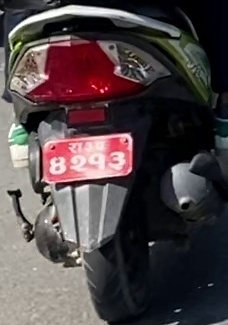license_plate: (41, 133, 134, 183)
